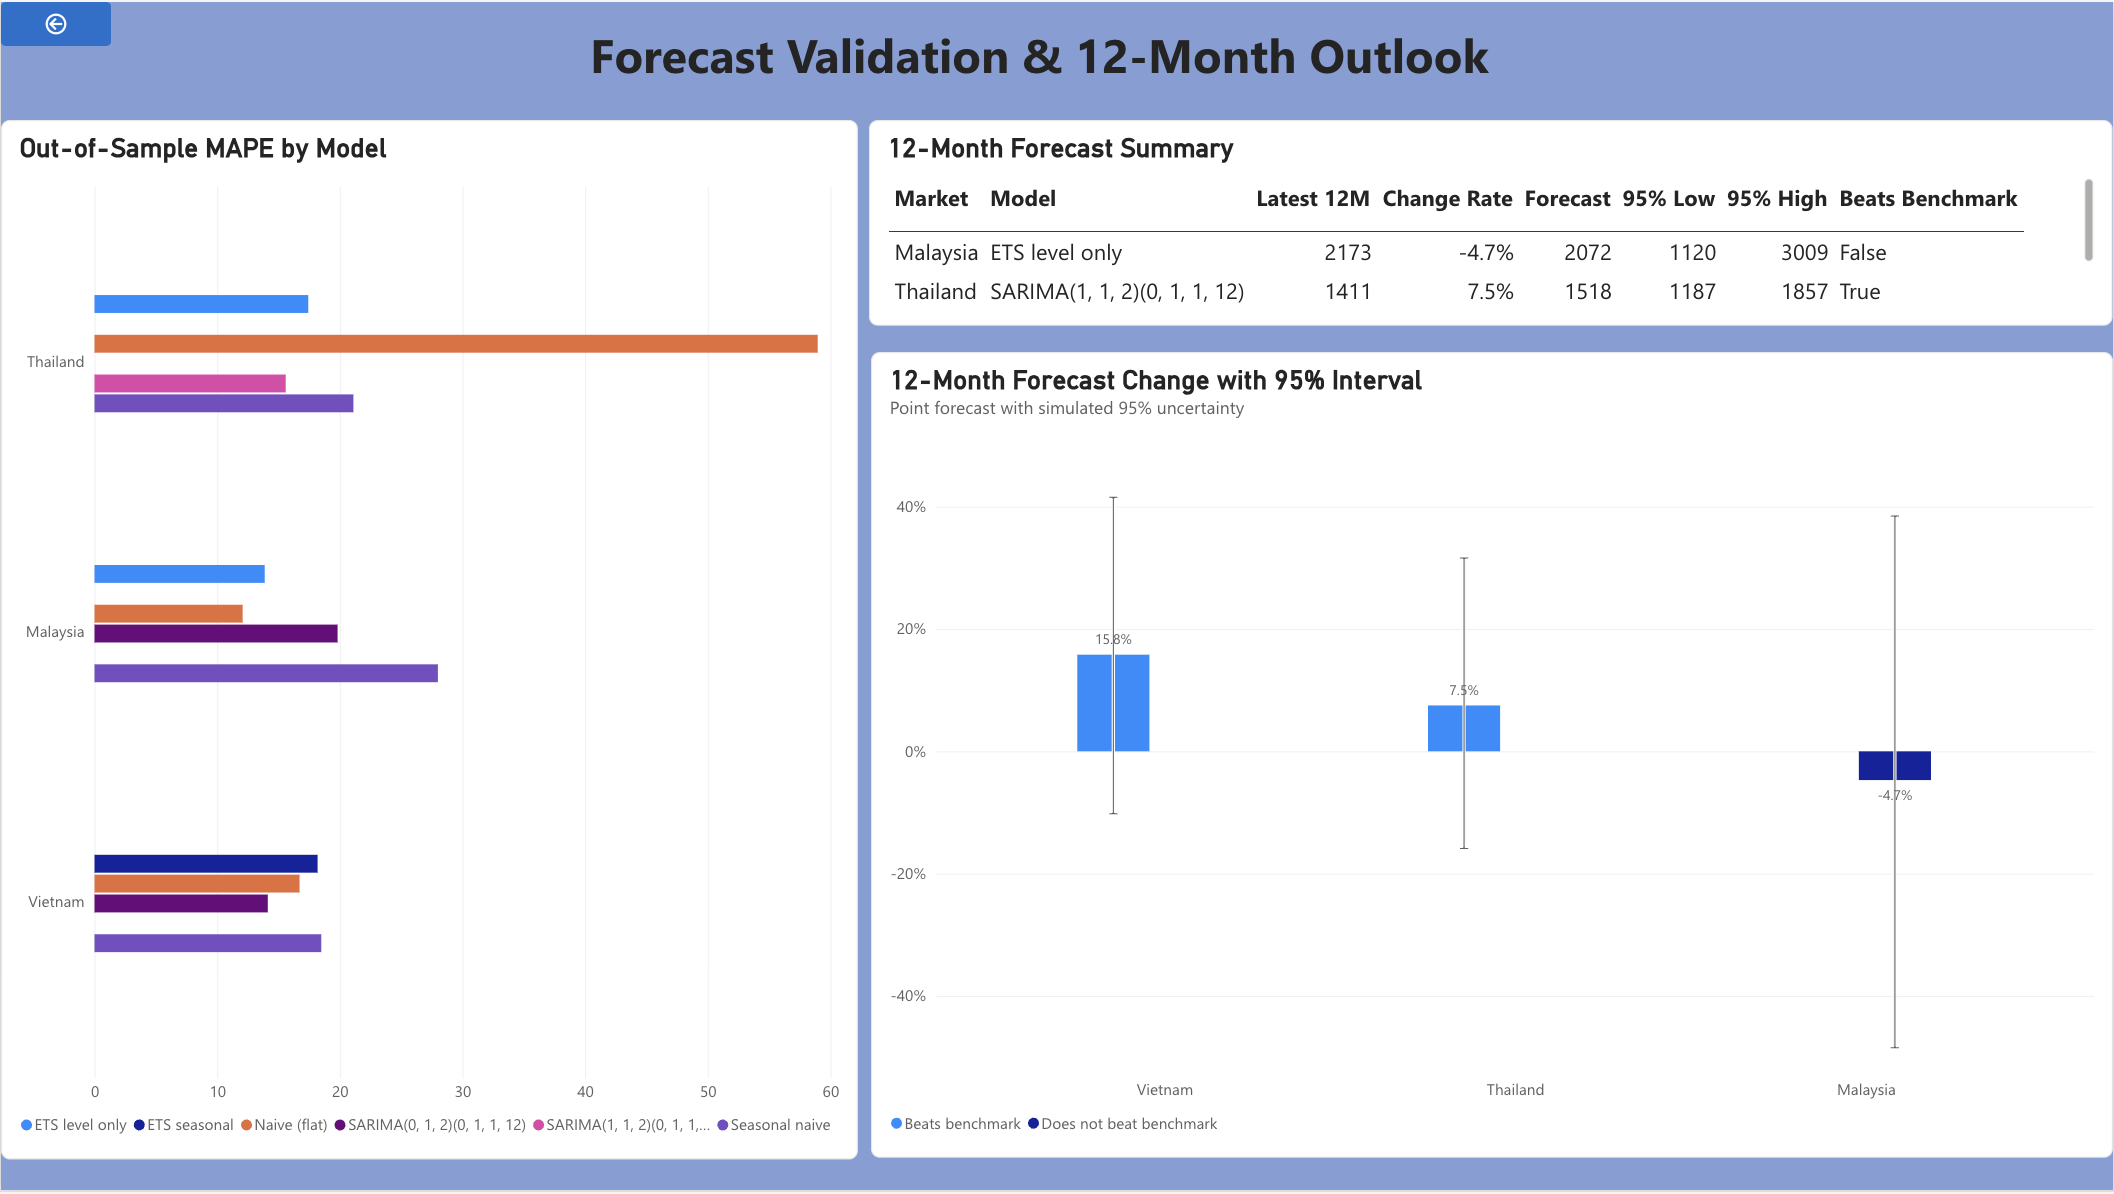

The page's visual inventory and layout, read from the dashboard file:
{"tool":"powerbi","page":{"name":"Forecast & Validation","canvas":[1920,1080],"ordinal":2},"visuals":[{"type":"clusteredBarChart","title":"Out-of-Sample MAPE by Model","fields":{"Category":["ModelValidation.market"],"Y":["Sum(ModelValidation.MAPE)"],"Series":["ModelValidation.model"]},"box":[0,106.5,779,944.8],"z":0},{"type":"tableEx","title":"12-Month Forecast Summary","fields":{"Values":["Forecasts.market","Forecasts.winning_model","Forecasts.latest_12m","Forecasts.Change Rate","Forecasts.forecast_median","Forecasts.lo95","Forecasts.hi95","Forecasts.beats_benchmark"]},"box":[789.6,106.5,1130.4,187.1],"z":1000},{"type":"actionButton","box":[0,0,100,40],"z":2000},{"type":"clusteredColumnChart","title":"12-Month Forecast Change with 95% Interval","fields":{"Category":["Forecasts.market"],"Series":["Forecasts.Benchmark Status"],"Y":["Forecasts.Forecast Change %"]},"box":[790.9,318.8,1129.1,732.5],"z":2001},{"type":"textbox","box":[100,100,300,300],"z":2002},{"type":"textbox","box":[51.1,0,1786.2,99.8],"z":2003}]}

Visuals, with their boxes in screenshot pixels (x1, y1, x2, y2), scaled from the page's 1920x1080 canvas onto the 2114x1194 screenshot:
"Out-of-Sample MAPE by Model" clusteredBarChart: <bbox>0, 118, 858, 1162</bbox>
"12-Month Forecast Summary" tableEx: <bbox>869, 118, 2113, 325</bbox>
actionButton: <bbox>0, 0, 110, 44</bbox>
"12-Month Forecast Change with 95% Interval" clusteredColumnChart: <bbox>871, 352, 2113, 1162</bbox>
textbox: <bbox>110, 111, 440, 442</bbox>
textbox: <bbox>56, 0, 2023, 110</bbox>
